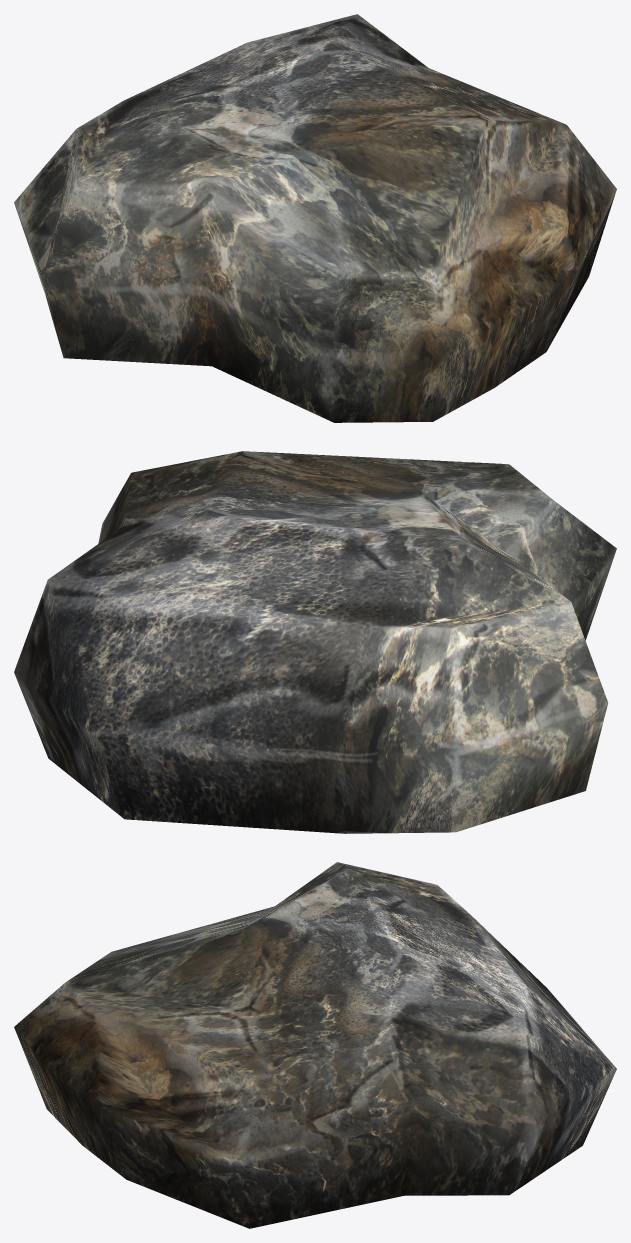
The model's file is rock_2.fbx.
3 renders of one model, top to bottom at view 1: azimuth 30°, elevation 25°; view 2: azimuth 150°, elevation 25°; view 3: azimuth 270°, elevation 25°, orthographic. The views are drawn at different scales.
Visible parts, largest first — view 1: Cube; view 2: Cube; view 3: Cube.
Part boxes in pixels (<box>): Cube: <box>14,14,616,422</box>; Cube: <box>14,451,616,833</box>; Cube: <box>14,862,616,1228</box>.
Bounding box in the file's own units: 3.19 × 1.23 × 3.48.
